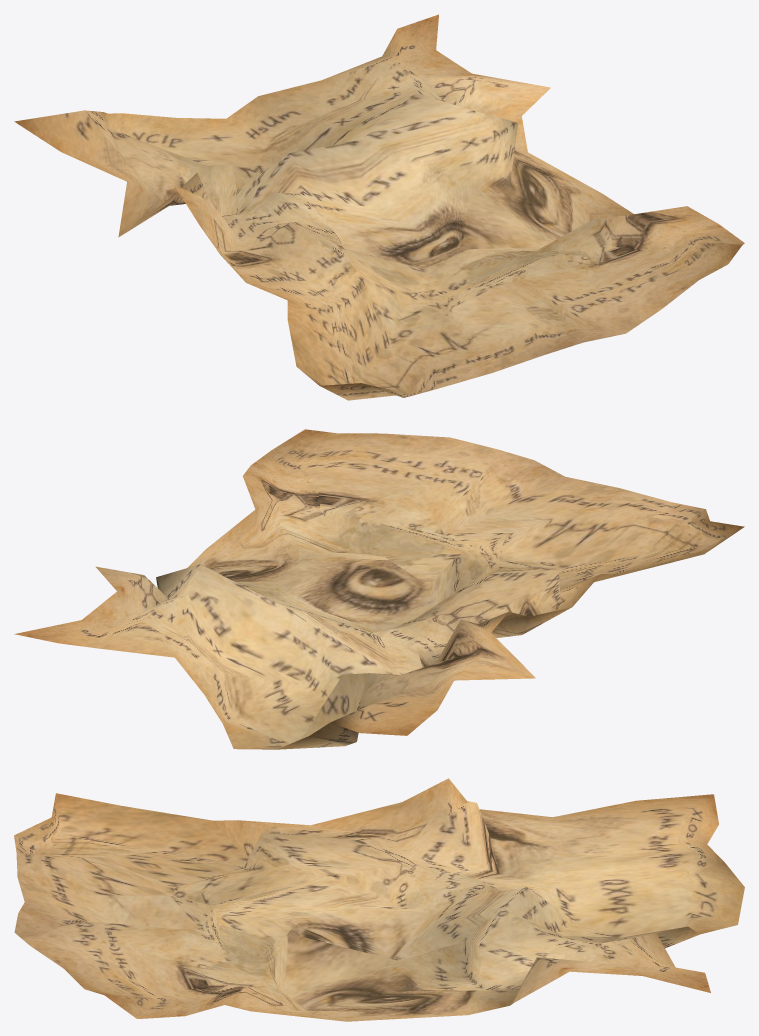
Rendered from SN_Research_Paper.003.fbx.
3 views of the same model, one above another, from view 1: azimuth 30°, elevation 25°; view 2: azimuth 150°, elevation 25°; view 3: azimuth 270°, elevation 25° (orthographic). The views are drawn at different scales.
Visible parts, largest first — view 1: SN_Research_Paper.003; view 2: SN_Research_Paper.003; view 3: SN_Research_Paper.003.
Part boxes in pixels (x1,y1,x2,y2): SN_Research_Paper.003: (14,14,744,400); SN_Research_Paper.003: (14,429,744,749); SN_Research_Paper.003: (14,778,744,1021).
Bounding box in the file's own units: 0.2039 × 0.0355 × 0.2806.
